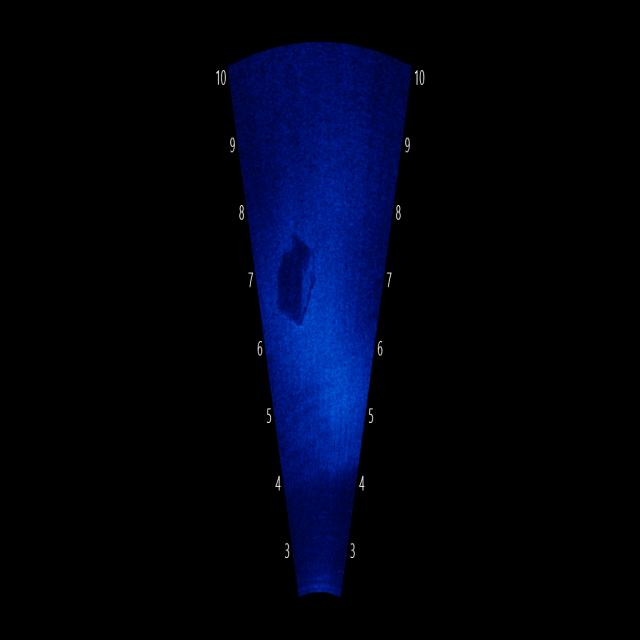square: (270, 224, 322, 345)
